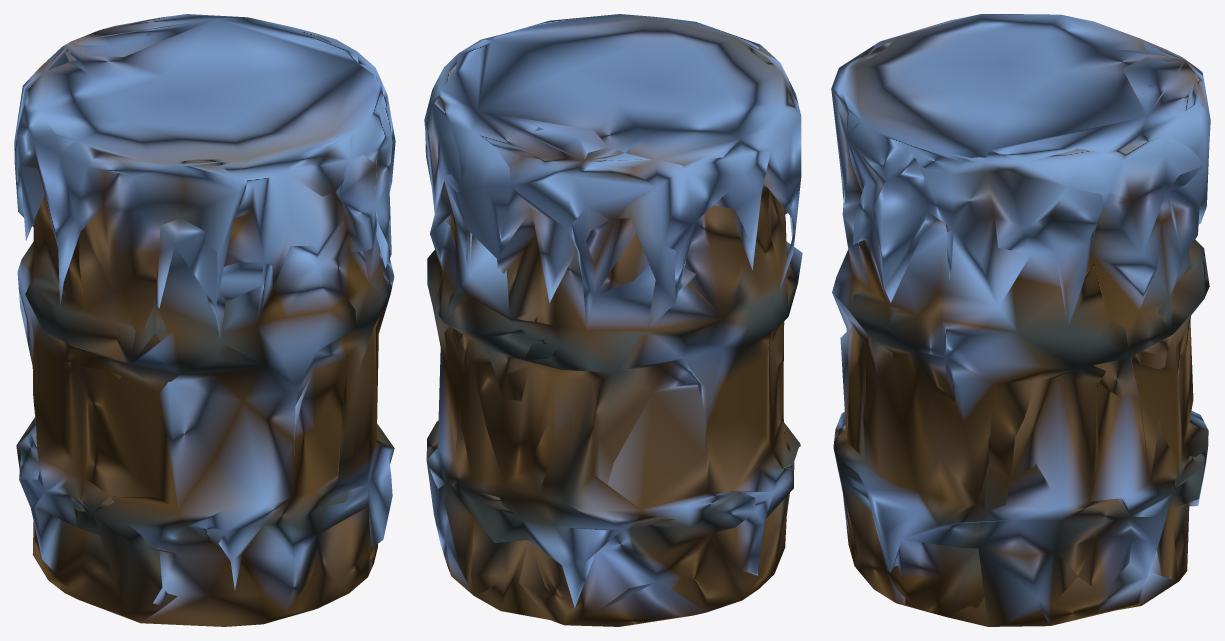
File: gen3d-frozen-barrel-lod0.glb
3 renders of one model, left to right at view 1: azimuth 30°, elevation 25°; view 2: azimuth 150°, elevation 25°; view 3: azimuth 270°, elevation 25°, orthographic.
Parts seen in each view (by area): view 1: part_0; view 2: part_0; view 3: part_0.
Boxes of the visible parts, left/top/right/bottom form: part_0: left=14, top=14, right=395, bottom=626; part_0: left=424, top=14, right=802, bottom=626; part_0: left=831, top=14, right=1210, bottom=626.
Bounding box in the file's own units: 0.728 × 0.9981 × 0.7174.
